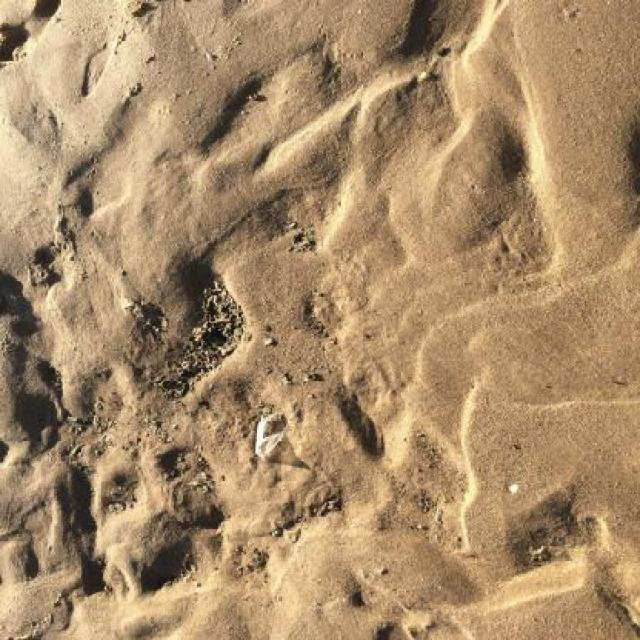plastic: (255, 413, 287, 459)
